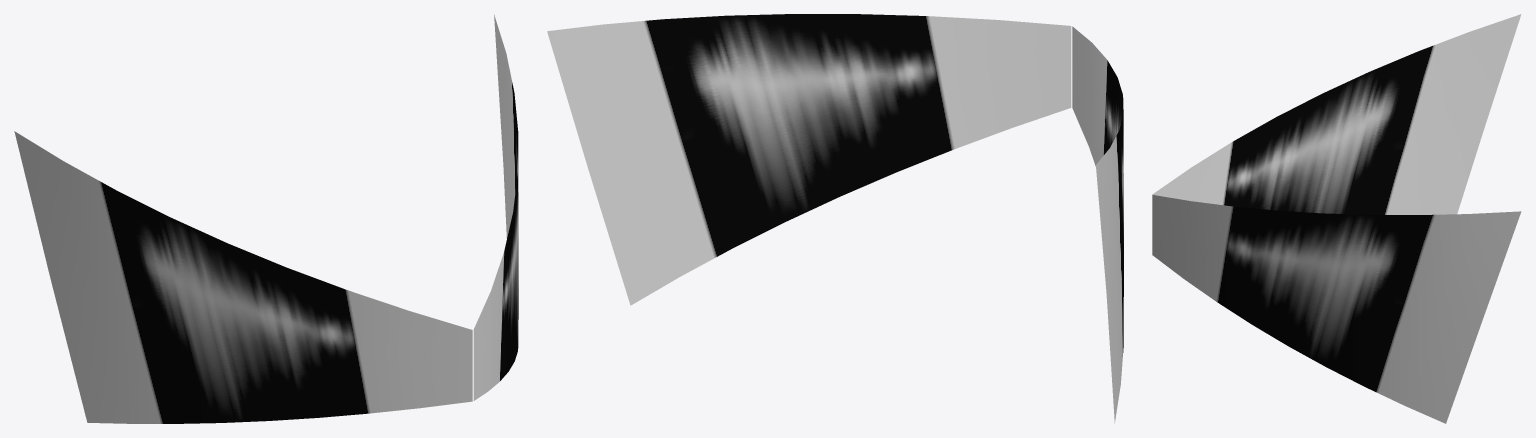
The model's file is fankui.FBX.
3 renders of one model, left to right at view 1: azimuth 30°, elevation 25°; view 2: azimuth 150°, elevation 25°; view 3: azimuth 270°, elevation 25°, orthographic. The views are drawn at different scales.
Visible parts, largest first — view 1: 1008-fankui; view 2: 1008-fankui; view 3: 1008-fankui.
Part boxes in pixels (x1,y1,x2,y2): 1008-fankui: (14, 14, 518, 423); 1008-fankui: (547, 14, 1123, 423); 1008-fankui: (1152, 14, 1521, 423).
Bounding box in the file's own units: 180 × 95.11 × 142.
1 material, 1 textured.
